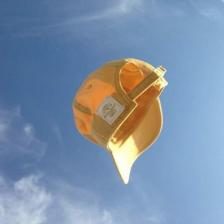yellow: (73, 58, 168, 184)
